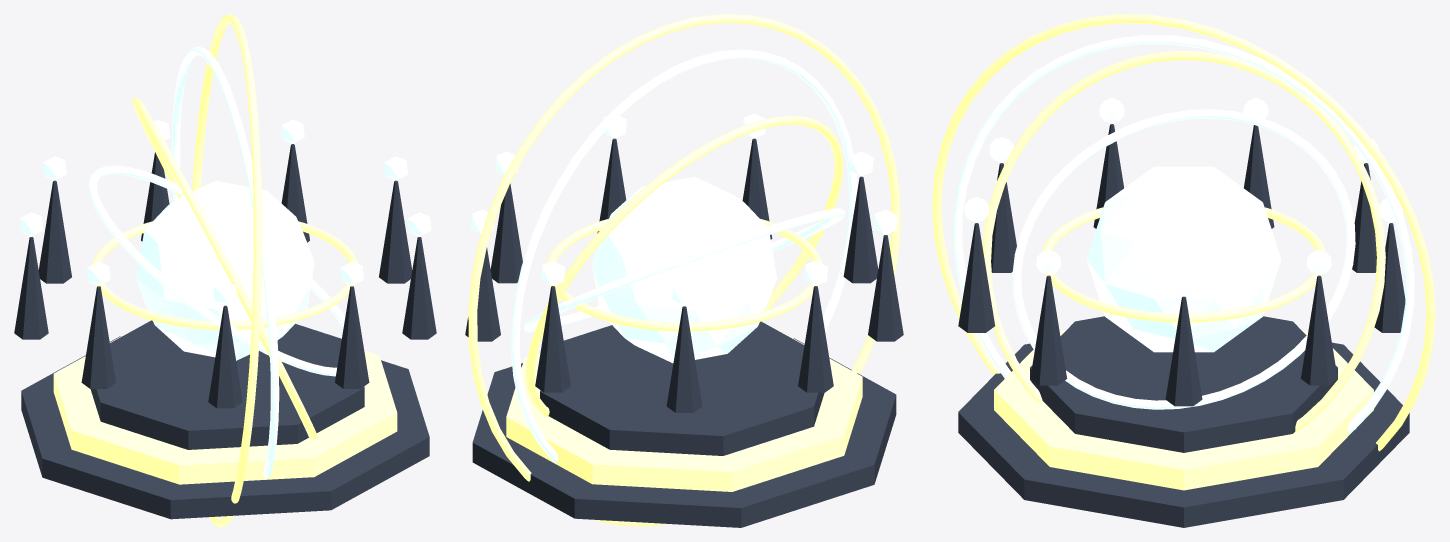
Rendered from gpu-blender-v42.glb.
3 views of the same model, side by side, from view 1: azimuth 30°, elevation 25°; view 2: azimuth 150°, elevation 25°; view 3: azimuth 270°, elevation 25° (orthographic). The views are drawn at different scales.
Parts seen in each view (by area): view 1: Cylinder.002, Cylinder, SovereignCore_pwa-manifest-builder, Cylinder.001, Torus.004, Torus.003, Torus.001, Torus.002, Torus, Cone.006, Cone.004, Cone.008 (+6 smaller); view 2: Cylinder.002, SovereignCore_pwa-manifest-builder, Cylinder, Cylinder.001, Torus.004, Torus.003, Torus.002, Torus.001, Torus, Cone.005, Cone.002, Cone.004 (+6 smaller); view 3: SovereignCore_pwa-manifest-builder, Cylinder.002, Cylinder, Cylinder.001, Torus.004, Torus.003, Torus.002, Torus.001, Torus, Cone, Cone.001, Cone.008 (+6 smaller).
Part boxes in pixels (box(x1,y1,x2,y2)): Cylinder.002: box(90, 320, 364, 449); Cylinder: box(21, 336, 429, 519); SovereignCore_pwa-manifest-builder: box(136, 181, 314, 360); Cylinder.001: box(53, 327, 397, 484); Torus.004: box(192, 14, 262, 527); Torus.003: box(171, 46, 279, 479); Torus.001: box(88, 165, 345, 376); Torus.002: box(132, 97, 317, 439); Torus: box(92, 221, 358, 329); Cone.006: box(208, 305, 242, 408); Cone.004: box(14, 237, 48, 339); Cone.008: box(402, 237, 436, 339); Cylinder.002: box(540, 321, 824, 455); SovereignCore_pwa-manifest-builder: box(592, 176, 776, 363); Cylinder: box(472, 338, 896, 527); Cylinder.001: box(506, 329, 862, 491); Torus.004: box(468, 14, 900, 526); Torus.003: box(511, 49, 857, 462); Torus.002: box(525, 115, 843, 416); Torus.001: box(523, 208, 844, 332); Torus: box(546, 219, 822, 331); Cone.005: box(868, 235, 903, 341); Cone.002: box(535, 286, 570, 392); Cone.004: box(798, 286, 833, 392); SovereignCore_pwa-manifest-builder: box(1086, 166, 1281, 352); Cylinder.002: box(1030, 316, 1337, 452); Cylinder: box(958, 342, 1409, 527); Cylinder.001: box(994, 330, 1373, 490); Torus.004: box(932, 14, 1435, 451); Torus.003: box(953, 35, 1414, 433); Torus.002: box(983, 50, 1385, 432); Torus.001: box(1012, 109, 1355, 409); Torus: box(1042, 207, 1325, 322); Cone: box(1165, 296, 1202, 406); Cone.001: box(1300, 275, 1337, 385); Cone.008: box(1030, 275, 1067, 385).
Size of the model in its own units: 4.41 by 5.33 by 4.9.
